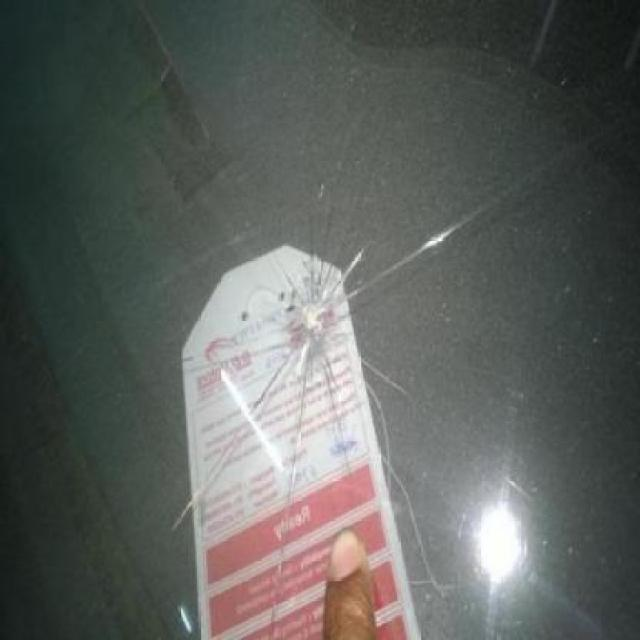damage: (259, 217, 367, 379)
